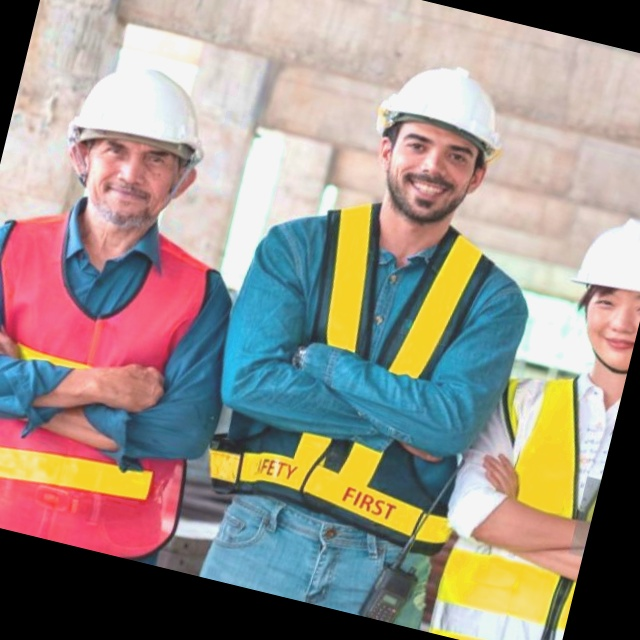Con_Casco: (52, 54, 224, 240), (355, 51, 522, 234), (554, 205, 640, 384)
Con_Chaleco: (209, 186, 527, 545), (0, 194, 245, 559), (428, 362, 622, 640)
